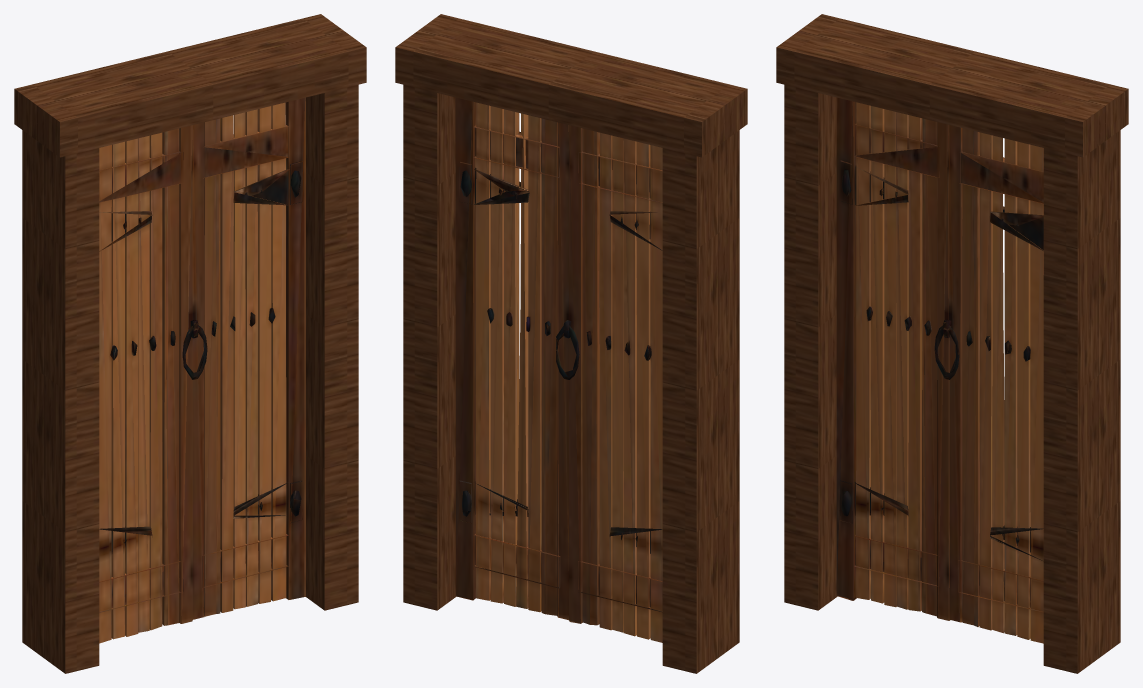
The model's file is door-studded.lod1.glb.
3 views of the same model, side by side, from view 1: azimuth 30°, elevation 25°; view 2: azimuth 150°, elevation 25°; view 3: azimuth 330°, elevation 25° (orthographic).
Parts seen in each view (by area): view 1: Leaf, Frame; view 2: Leaf, Frame; view 3: Leaf, Frame.
Boxes of the visible parts, <box> form: Leaf: <box>99,97,305,643</box>; Frame: <box>14,14,366,673</box>; Leaf: <box>455,97,662,642</box>; Frame: <box>395,14,747,673</box>; Leaf: <box>836,97,1043,643</box>; Frame: <box>776,14,1128,673</box>.
Bounding box in the file's own units: 1.36 × 2.35 × 0.35.
2 materials, 2 textured.
